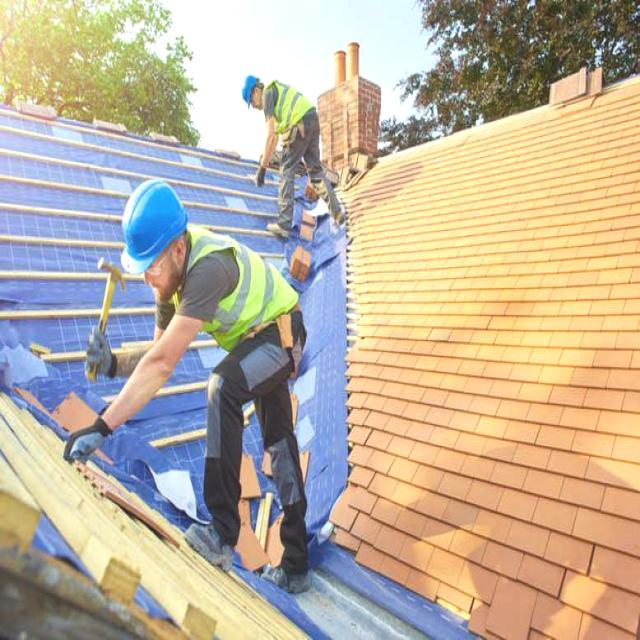face_nomask: (138, 248, 173, 298), (252, 87, 266, 121)
hand_noglove: (59, 406, 120, 474), (80, 319, 121, 384), (252, 159, 274, 205)
head_helmet: (120, 178, 188, 273), (239, 73, 257, 107)
person: (74, 168, 317, 578), (240, 72, 348, 237)
shoes: (182, 519, 238, 578)
vest: (175, 226, 302, 349), (261, 79, 315, 132)
